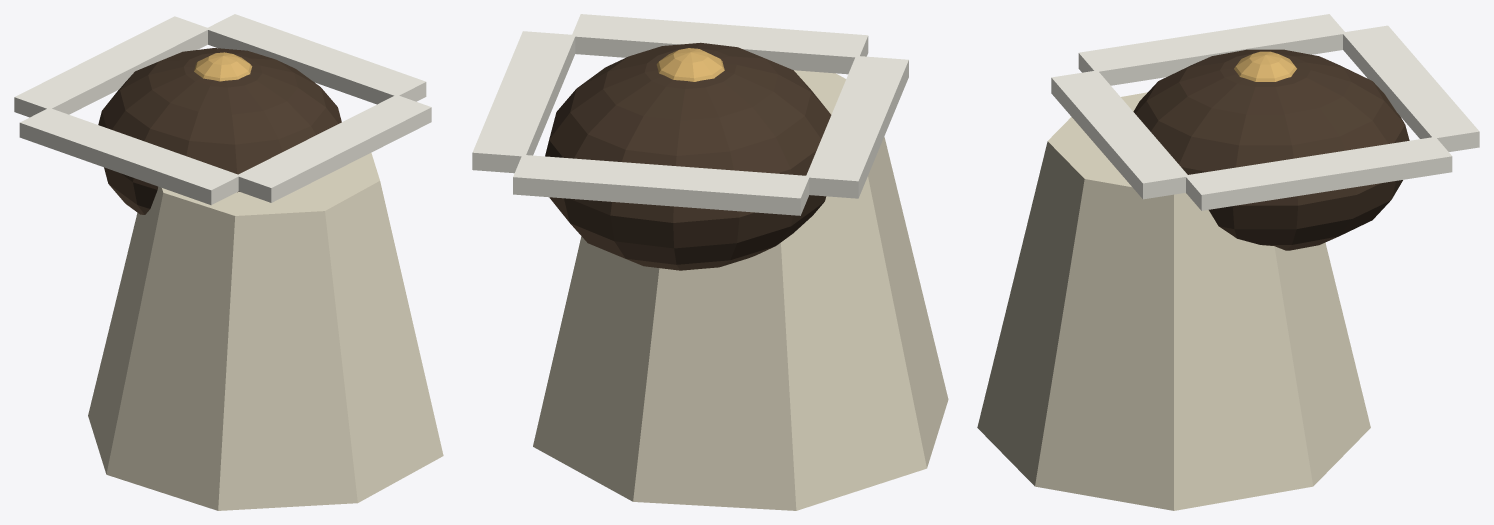
Rendered from charm-mini-windmill.glb.
3 renders of one model, left to right at view 1: azimuth 30°, elevation 25°; view 2: azimuth 150°, elevation 25°; view 3: azimuth 270°, elevation 25°, orthographic. The views are drawn at different scales.
Visible parts, largest first — view 1: charm_mini_windmill; view 2: charm_mini_windmill; view 3: charm_mini_windmill.
Part boxes in pixels (x1,y1,x2,y2): charm_mini_windmill: [14, 14, 443, 510]; charm_mini_windmill: [472, 14, 948, 510]; charm_mini_windmill: [977, 14, 1479, 510].
Size of the model in its own units: 0.00609 by 0.00585 by 0.00715.
